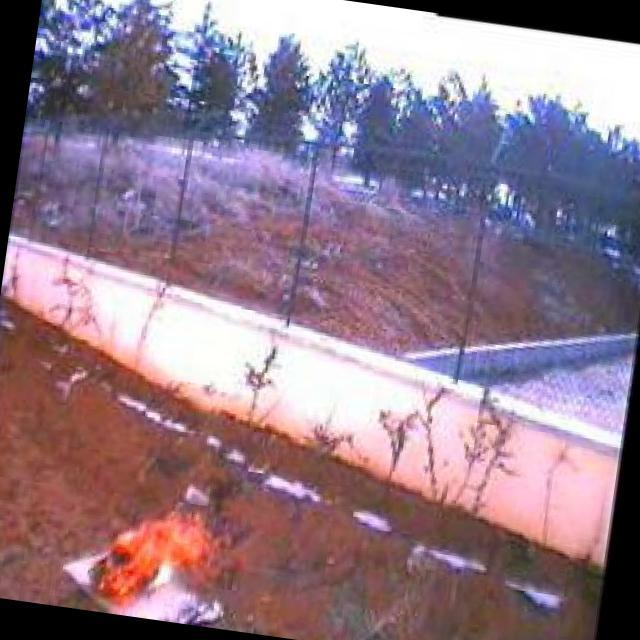Fire: (80, 492, 253, 631)
